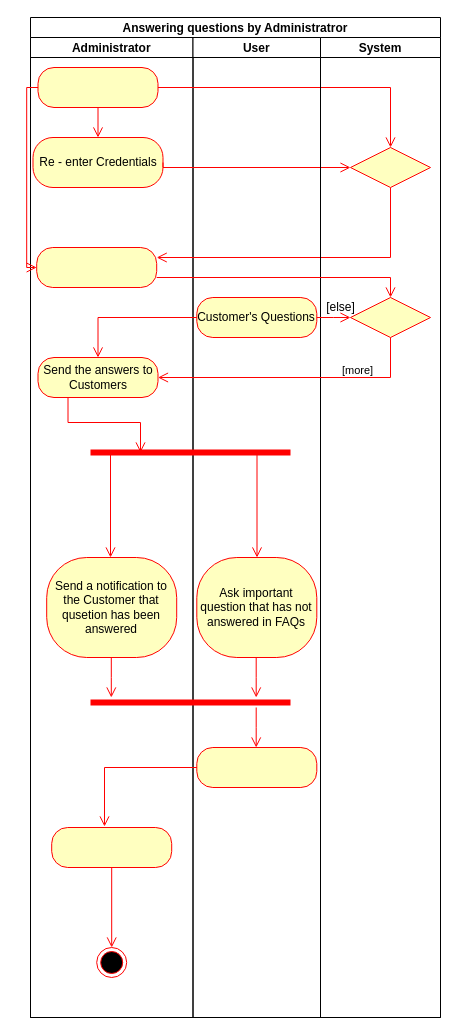
The diagram is 458 pixels wide and 1035 high, and some of its shapes have lost their labels. The shapes that lost their labels are listed below. From the top down, each one's centre as x and y in pixels, then its label:
At point (97, 87): "Log in with Credentials".
At point (96, 267): "Go to Questions Page".
At point (256, 767): "Update the system".
At point (111, 847): "Log out".
